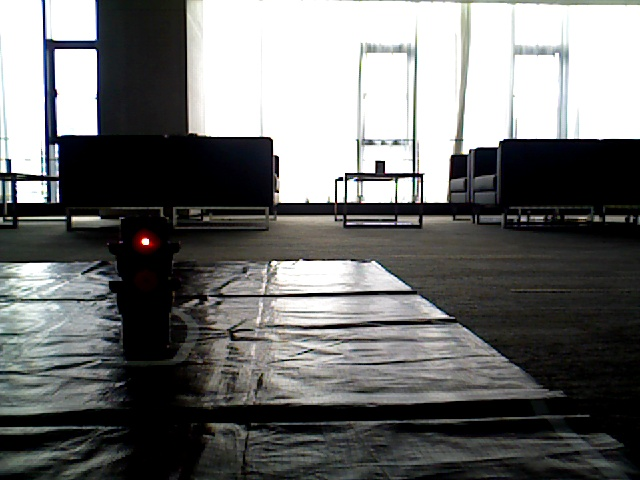red: (120, 213, 169, 319)
